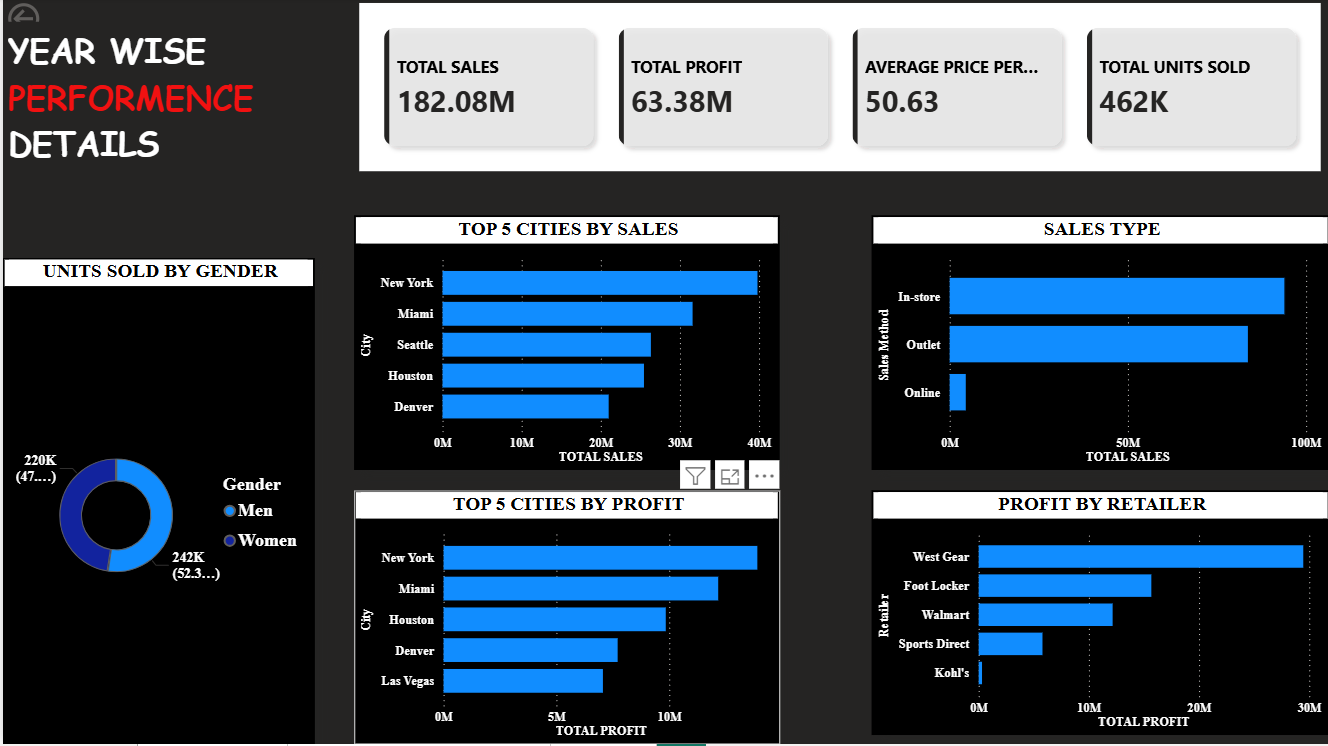

This screenshot's page, from the dashboard's own definition file:
{"tool":"powerbi","page":{"name":"DETAILS","canvas":[1280,720],"ordinal":2},"visuals":[{"type":"actionButton","box":[0,0,100,40],"z":0},{"type":"cardVisual","fields":{"Data":["Sum(Data Sales Adidas.Total Sales)","Sum(Data Sales Adidas.Operating Profit)","Avg(Data Sales Adidas.Price per Unit)","Sum(Data Sales Adidas.Units Sold)"]},"box":[338.9,0,941.3,172.9],"z":1},{"type":"donutChart","title":"UNITS SOLD BY GENDER","fields":{"Category":["Data Sales Adidas.Gender"],"Y":["Sum(Data Sales Adidas.Units Sold)"]},"box":[0,251.1,300.5,469.3],"z":2},{"type":"barChart","title":"TOP 5 CITIES BY SALES","fields":{"Category":["Data Sales Adidas.City"],"Y":["Sum(Data Sales Adidas.Total Sales)"]},"box":[338.9,209.9,410.3,245.6],"z":3},{"type":"barChart","title":"TOP 5 CITIES BY PROFIT","fields":{"Category":["Data Sales Adidas.City"],"Y":["Sum(Data Sales Adidas.Operating Profit)"]},"box":[339.5,475.3,410.8,244.9],"z":4},{"type":"clusteredBarChart","title":"SALES TYPE","fields":{"Category":["Data Sales Adidas.Sales Method"],"Y":["Sum(Data Sales Adidas.Total Sales)"]},"box":[838.4,209.9,441.9,245.6],"z":5},{"type":"barChart","title":"PROFIT BY RETAILER","fields":{"Category":["Data Sales Adidas.Retailer"],"Y":["Sum(Data Sales Adidas.Operating Profit)"]},"box":[838.4,474.8,441.9,236],"z":6},{"type":"textbox","box":[0,23.3,328,227.8],"z":7}]}

Visuals, with their boxes in screenshot pixels (x1, y1, x2, y2), scaled from the page's 1280x720 canvas onto the 1328x746 screenshot:
actionButton: box=[0, 0, 104, 41]
cardVisual - Sum(Data Sales Adidas.Total Sales) x Sum(Data Sales Adidas.Operating Profit): box=[352, 0, 1327, 179]
"UNITS SOLD BY GENDER" donutChart: box=[0, 260, 312, 745]
"TOP 5 CITIES BY SALES" barChart: box=[352, 217, 777, 472]
"TOP 5 CITIES BY PROFIT" barChart: box=[352, 492, 778, 745]
"SALES TYPE" clusteredBarChart: box=[870, 217, 1327, 472]
"PROFIT BY RETAILER" barChart: box=[870, 492, 1327, 736]
textbox: box=[0, 24, 340, 260]
